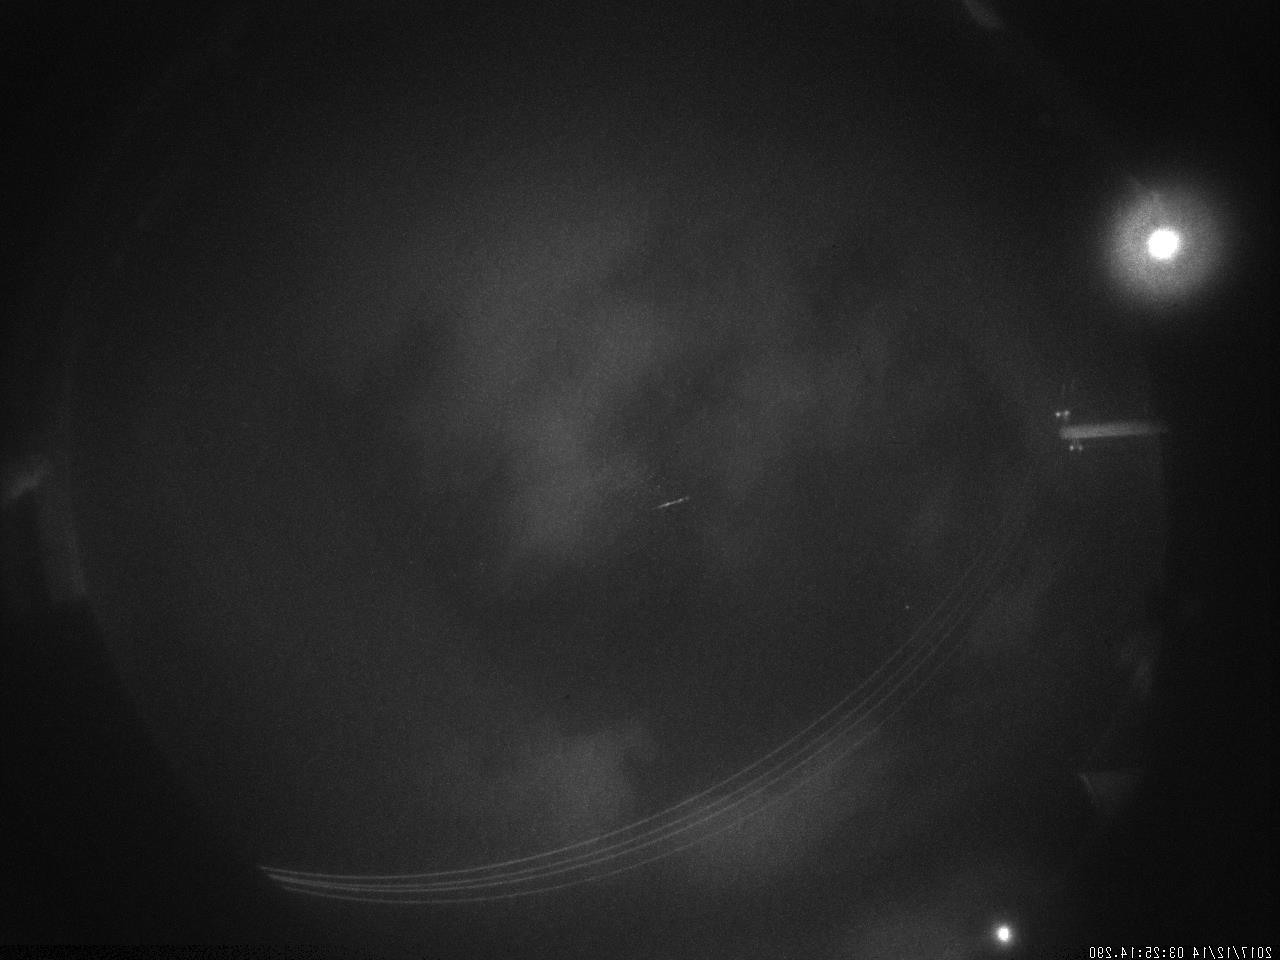meteor: (631, 482, 702, 527)
